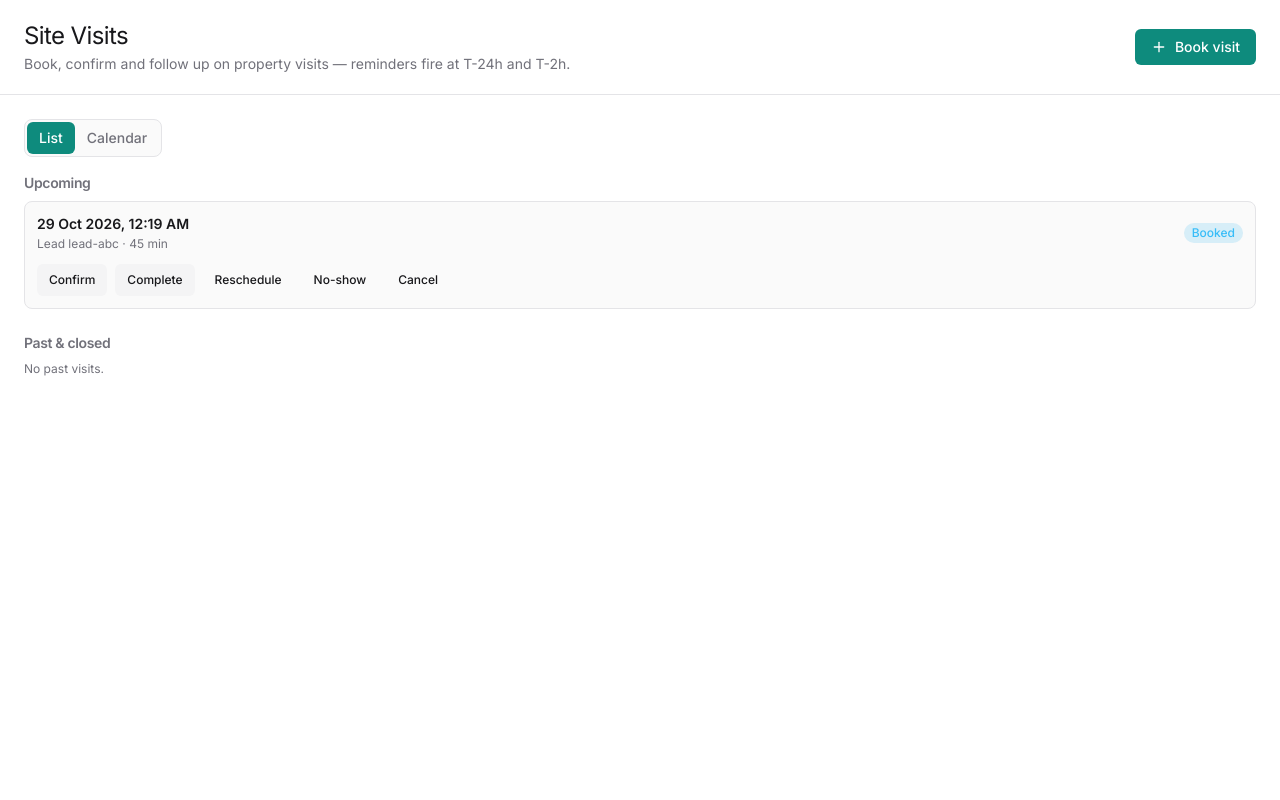
Test: SiteVisitsPage book modal › opens with empty pickers while the lead and project lists are still loading
Click the button "Book visit" at {"x": 1195, "y": 47}, box [1135, 29, 1256, 65]
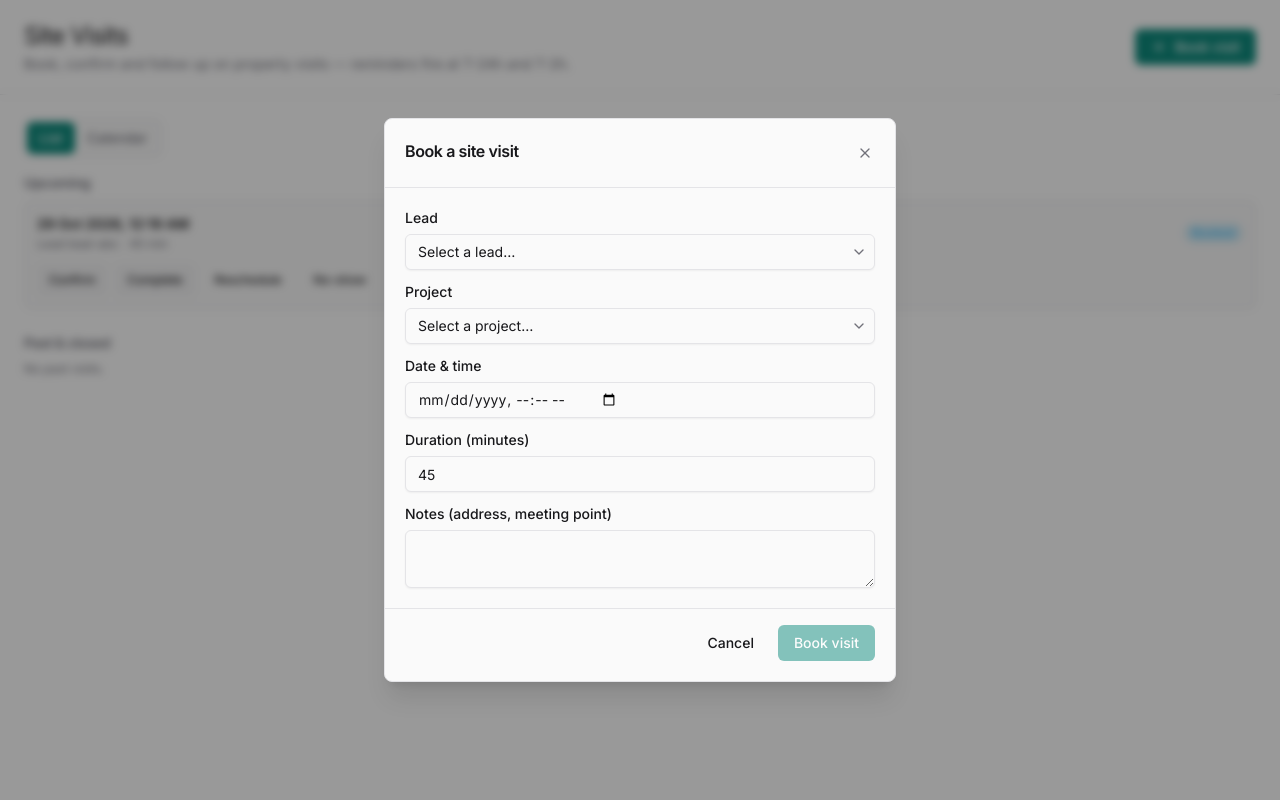
Check: the button "Book visit" is disabled, box [778, 625, 875, 661]
